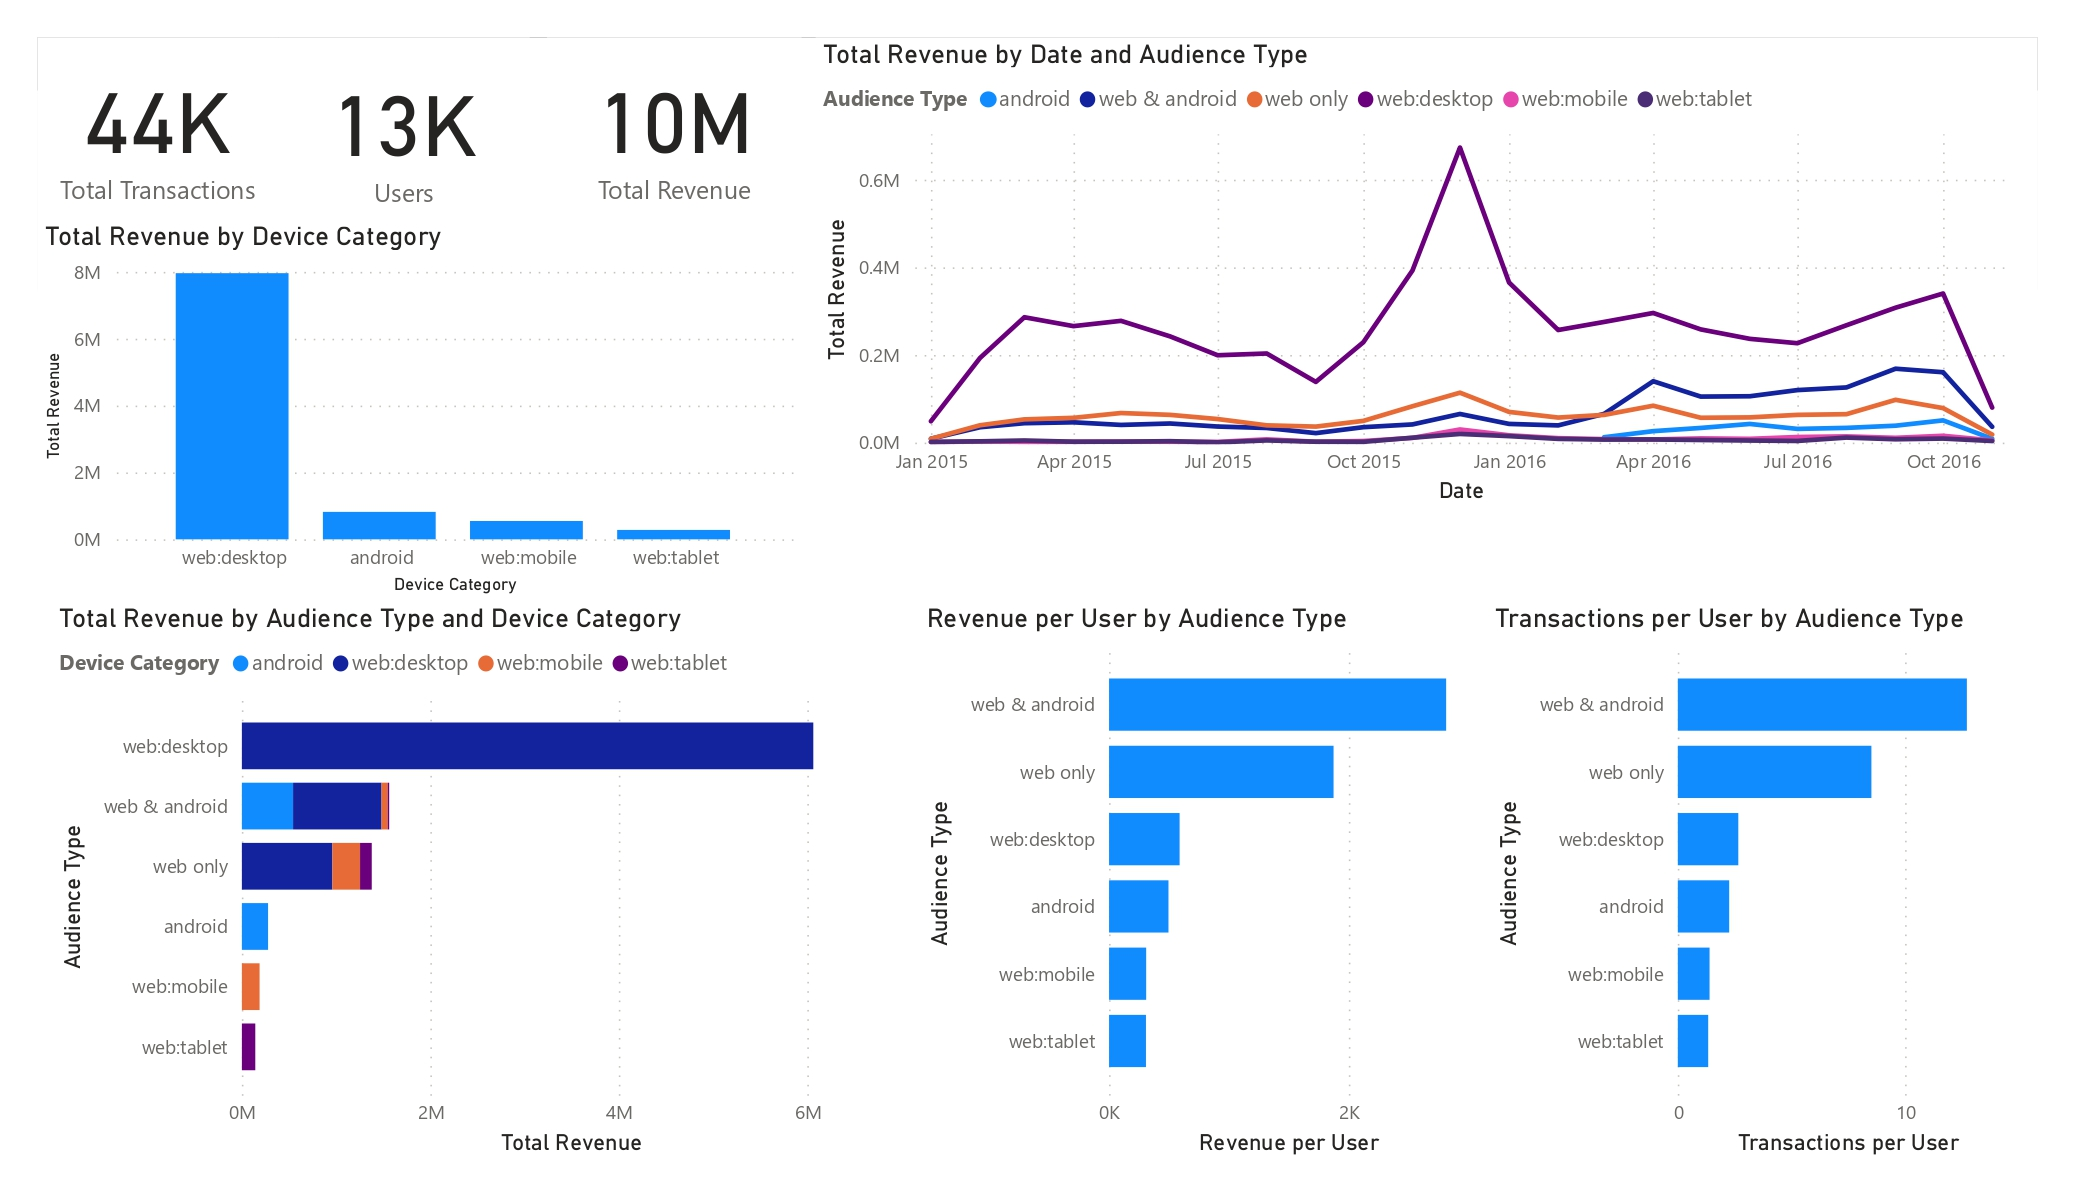

What the dashboard file says about the page in this screenshot:
{"tool":"powerbi","page":{"name":"Page 1","canvas":[1280,720],"ordinal":0},"visuals":[{"type":"barChart","fields":{"Category":["data_cleaned.Audience Type"],"Y":["data_cleaned.Total Revenue"]},"box":[8.6,407.1,399.7,312.9],"z":0},{"type":"lineChart","fields":{"Category":["calendar.Date"],"Series":["data_cleaned.Audience Type"],"Y":["data_cleaned.Total Revenue"]},"box":[497.5,0,782.3,303.2],"z":1000},{"type":"card","fields":{"Values":["data_cleaned.Total Revenue"]},"box":[326.4,0,162.6,117.4],"z":2000},{"type":"card","fields":{"Values":["data_cleaned.Total Transactions"]},"box":[0,0,154,117.4],"z":3000},{"type":"columnChart","fields":{"Series":["data_cleaned.Device Category"],"Category":["data_cleaned.Audience Type"],"Y":["data_cleaned.Revenue per User"]},"box":[489,361,791,359],"z":4000},{"type":"columnChart","fields":{"Category":["data_cleaned.Device Category"],"Y":["data_cleaned.Total Revenue"]},"box":[0,117.4,489,289.7],"z":5000},{"type":"card","fields":{"Values":["data_cleaned.Users"]},"box":[154,0,161.4,121],"z":7000}]}

Visuals, with their boxes in screenshot pixels (x1, y1, x2, y2):
barChart - data_cleaned.Audience Type x data_cleaned.Total Revenue: [left=51, top=674, right=675, bottom=1162]
lineChart - calendar.Date x data_cleaned.Audience Type: [left=815, top=38, right=2037, bottom=511]
card - data_cleaned.Total Revenue: [left=548, top=38, right=802, bottom=221]
card - data_cleaned.Total Transactions: [left=38, top=38, right=278, bottom=221]
columnChart - data_cleaned.Device Category x data_cleaned.Audience Type: [left=802, top=602, right=2038, bottom=1162]
columnChart - data_cleaned.Device Category x data_cleaned.Total Revenue: [left=38, top=221, right=802, bottom=674]
card - data_cleaned.Users: [left=278, top=38, right=530, bottom=227]
